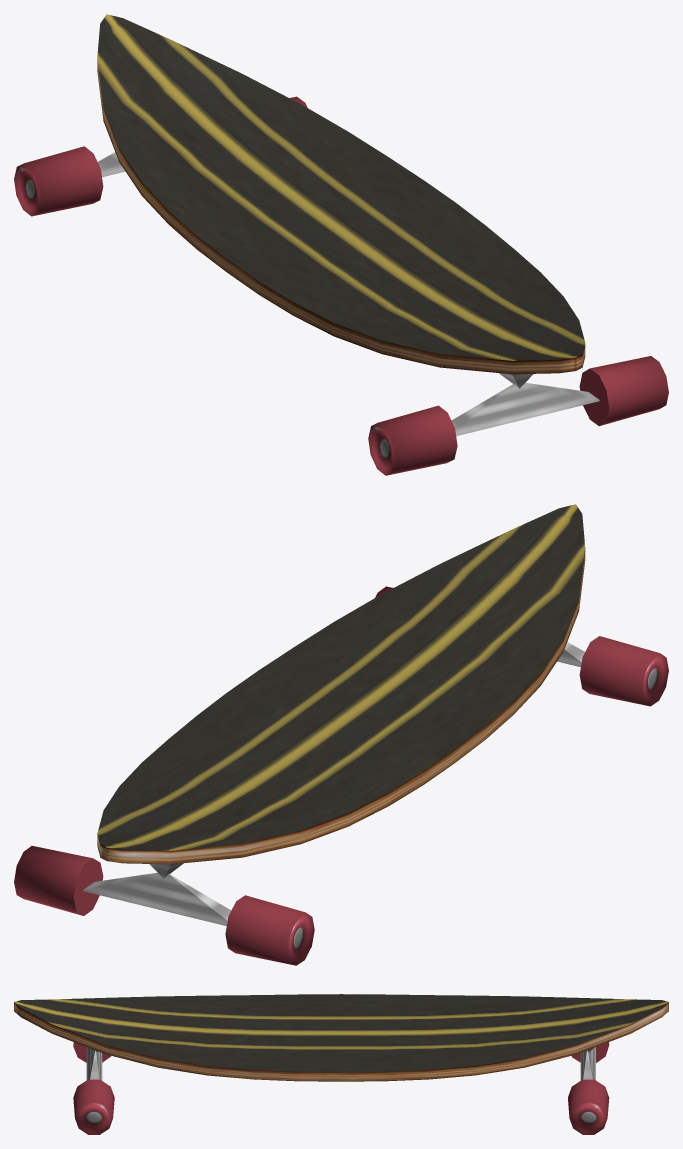
File: Skateboard_Load.FBX
3 renders of one model, top to bottom at view 1: azimuth 30°, elevation 25°; view 2: azimuth 150°, elevation 25°; view 3: azimuth 270°, elevation 25°, orthographic. The views are drawn at different scales.
Visible parts, largest first — view 1: A_board; view 2: A_board; view 3: A_board.
Part boxes in pixels (bbox=[...]): A_board: bbox=[14, 14, 668, 475]; A_board: bbox=[14, 504, 668, 965]; A_board: bbox=[14, 994, 668, 1134].
Bounding box in the file's own units: 38.54 × 16.98 × 115.
